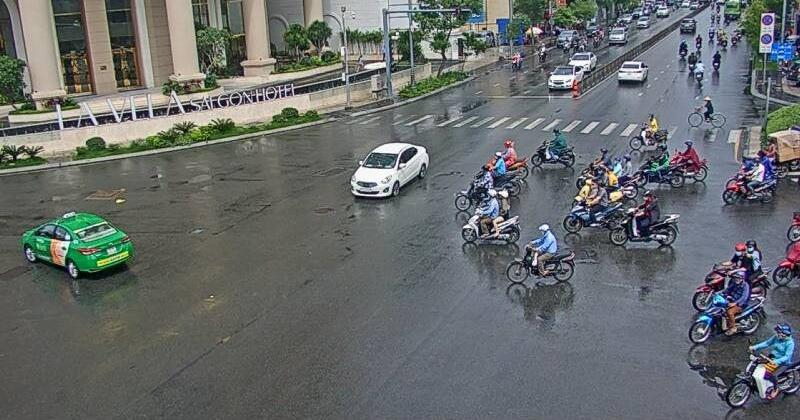xe dap: (686, 95, 725, 127)
xe hoi: (24, 209, 132, 279), (349, 141, 427, 200)
xe may: (724, 321, 800, 405), (687, 271, 767, 342), (504, 223, 575, 286), (609, 189, 678, 245), (461, 190, 521, 244), (562, 182, 624, 232), (721, 156, 773, 206), (454, 164, 506, 211), (633, 142, 686, 188), (475, 152, 523, 197), (529, 128, 574, 169), (628, 111, 667, 148)
